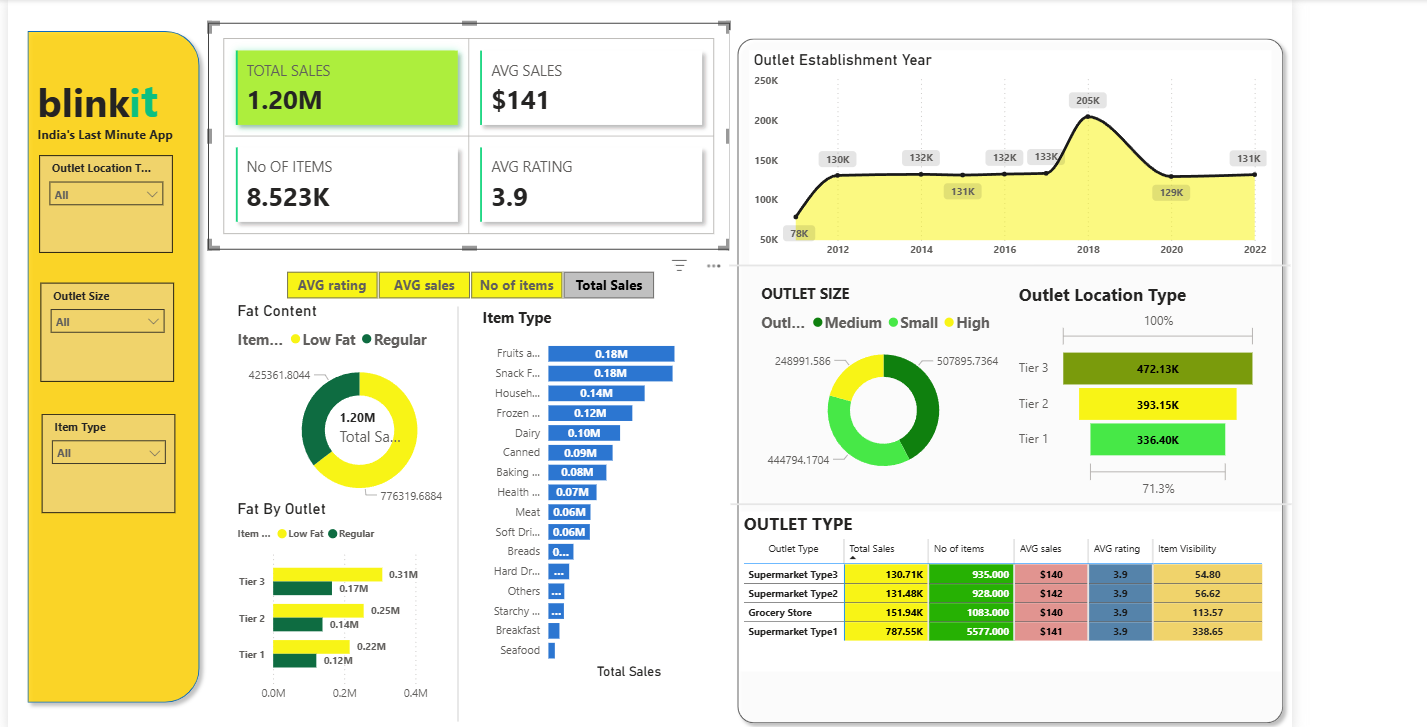

The page's visual inventory and layout, read from the dashboard file:
{"tool":"powerbi","page":{"name":"Home","canvas":[1400,800],"ordinal":0},"visuals":[{"type":"shape","box":[12,25.5,205.6,750.4],"z":0},{"type":"textbox","box":[27,72,162.1,85.5],"z":1000},{"type":"textbox","box":[27,133.6,180.1,46.5],"z":2000},{"type":"cardVisual","fields":{"Data":["BlinkIT Grocery Data.Total Sales","BlinkIT Grocery Data.AVG sales","BlinkIT Grocery Data.No of items","BlinkIT Grocery Data.AVG rating"]},"box":[217.9,25.5,569.4,247.9],"z":3000},{"type":"shape","box":[787.3,34.6,613,764.8],"z":4000},{"type":"donutChart","title":" Fat Content","fields":{"Y":["BlinkIT Grocery Data.Total Sales"],"Category":["BlinkIT Grocery Data.Item Fat Content"]},"box":[244.9,330.5,276.5,229.9],"z":5000},{"type":"slicer","fields":{"Values":["Metrics 2.Metrics"]},"box":[278,290,450.7,40.6],"z":6000},{"type":"cardVisual","fields":{"Data":["BlinkIT Grocery Data.Total Sales"]},"box":[332,428.2,127.7,78.1],"z":7000},{"type":"clusteredBarChart","title":"Fat By Outlet","fields":{"Y":["BlinkIT Grocery Data.Total Sales"],"Category":["BlinkIT Grocery Data.Outlet Location Type"],"Series":["BlinkIT Grocery Data.Item Fat Content"]},"box":[244.9,545.4,220.9,229.9],"z":8000},{"type":"shape","box":[469.3,335.4,43.6,452.7],"z":9000},{"type":"barChart","title":" Item Type","fields":{"Y":["BlinkIT Grocery Data.Total Sales"],"Category":["BlinkIT Grocery Data.Item Type"]},"box":[512.6,335.4,257.7,411.7],"z":10000},{"type":"lineChart","title":"Outlet Establishment Year","fields":{"Category":["BlinkIT Grocery Data.Outlet Establishment Year"],"Y":["BlinkIT Grocery Data.Total Sales"]},"box":[808.3,55.6,569.4,234.4],"z":11000},{"type":"shape","box":[786.6,258.7,612.2,63.2],"z":12000},{"type":"donutChart","title":" OUTLET SIZE","fields":{"Y":["BlinkIT Grocery Data.Total Sales"],"Category":["BlinkIT Grocery Data.Outlet Size"]},"box":[816.7,309.8,276.8,225],"z":13000},{"type":"funnel","title":" Outlet Location Type","fields":{"Y":["Sum(BlinkIT Grocery Data.Sales)"],"Category":["BlinkIT Grocery Data.Outlet Location Type"]},"box":[1098,309.8,270,240],"z":13001},{"type":"shape","box":[788.1,518.9,612.2,63.2],"z":13002},{"type":"pivotTable","title":"OUTLET TYPE","fields":{"Rows":["BlinkIT Grocery Data.Outlet Type"],"Values":["BlinkIT Grocery Data.Total Sales","BlinkIT Grocery Data.No of items","BlinkIT Grocery Data.AVG sales","BlinkIT Grocery Data.AVG rating","Sum(BlinkIT Grocery Data.Item Visibility)"]},"box":[797.2,559.5,591.1,174.5],"z":13003},{"type":"slicer","fields":{"Values":["BlinkIT Grocery Data.Outlet Location Type"]},"box":[34.1,170.4,145.9,106.3],"z":13004},{"type":"slicer","fields":{"Values":["BlinkIT Grocery Data.Outlet Size"]},"box":[35.4,309.5,145.9,107.7],"z":13005},{"type":"slicer","fields":{"Values":["BlinkIT Grocery Data.Item Type"]},"box":[36.8,452.6,145.9,107.7],"z":13006}]}

Visuals, with their boxes on the page's 1400x800 design canvas (x1, y1, x2, y2). These are canvas units, not pixel positions in the 1427x727 screenshot, which may show the page scaled, cropped or inside an application window:
shape: <box>12,26,218,776</box>
textbox: <box>27,72,189,158</box>
textbox: <box>27,134,207,180</box>
cardVisual - BlinkIT Grocery Data.Total Sales x BlinkIT Grocery Data.AVG sales: <box>218,26,787,273</box>
shape: <box>787,35,1400,799</box>
" Fat Content" donutChart: <box>245,330,521,560</box>
slicer - Metrics 2.Metrics: <box>278,290,729,331</box>
cardVisual - BlinkIT Grocery Data.Total Sales: <box>332,428,460,506</box>
"Fat By Outlet" clusteredBarChart: <box>245,545,466,775</box>
shape: <box>469,335,513,788</box>
" Item Type" barChart: <box>513,335,770,747</box>
"Outlet Establishment Year" lineChart: <box>808,56,1378,290</box>
shape: <box>787,259,1399,322</box>
" OUTLET SIZE" donutChart: <box>817,310,1094,535</box>
" Outlet Location Type" funnel: <box>1098,310,1368,550</box>
shape: <box>788,519,1400,582</box>
"OUTLET TYPE" pivotTable: <box>797,560,1388,734</box>
slicer - BlinkIT Grocery Data.Outlet Location Type: <box>34,170,180,277</box>
slicer - BlinkIT Grocery Data.Outlet Size: <box>35,310,181,417</box>
slicer - BlinkIT Grocery Data.Item Type: <box>37,453,183,560</box>
